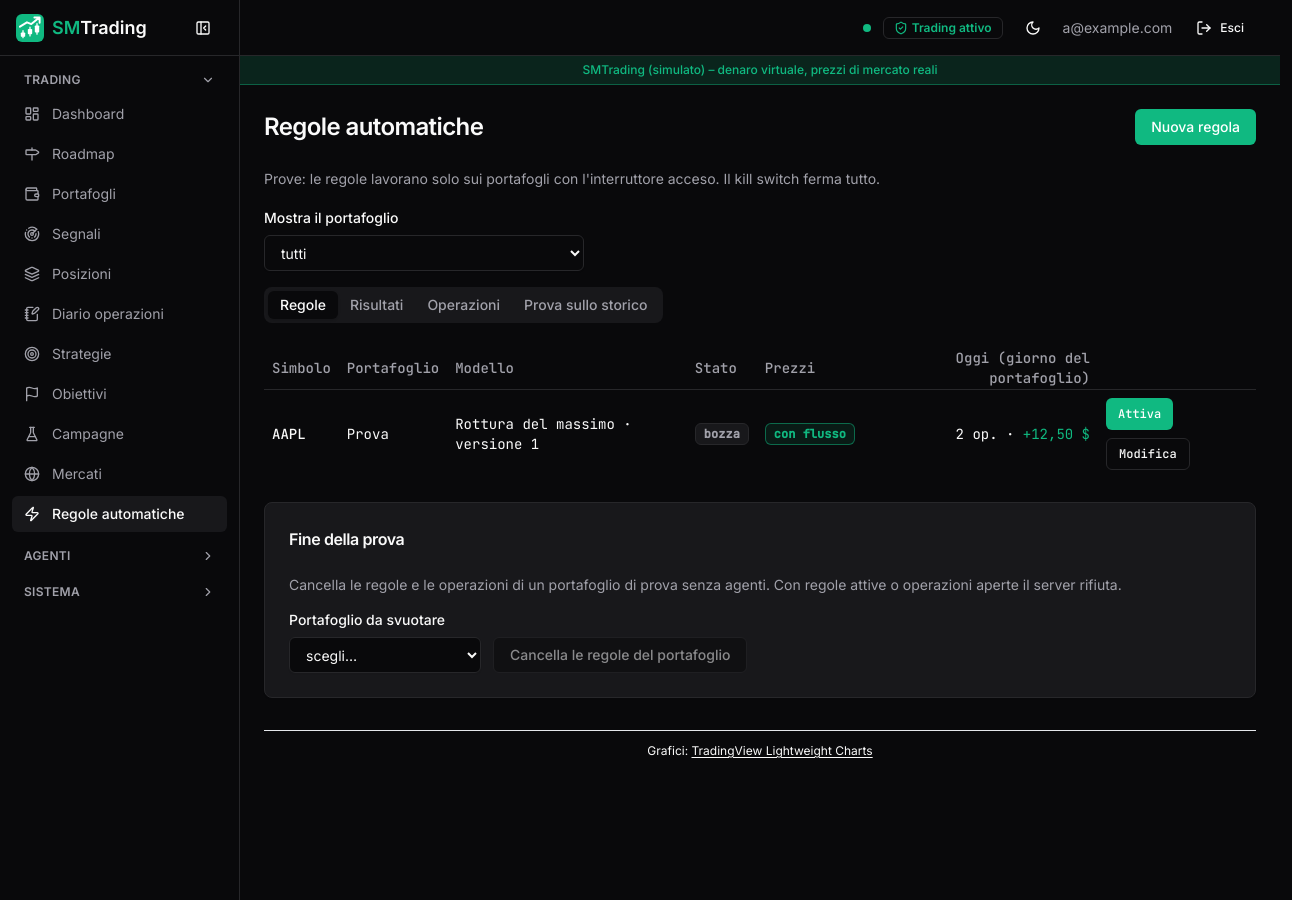
AutoRules › shows the exit reason in plain words and the milliseconds in the trades tab
Step 1. Click the tab "Operazioni" → (464, 305), box [415,291,512,319]
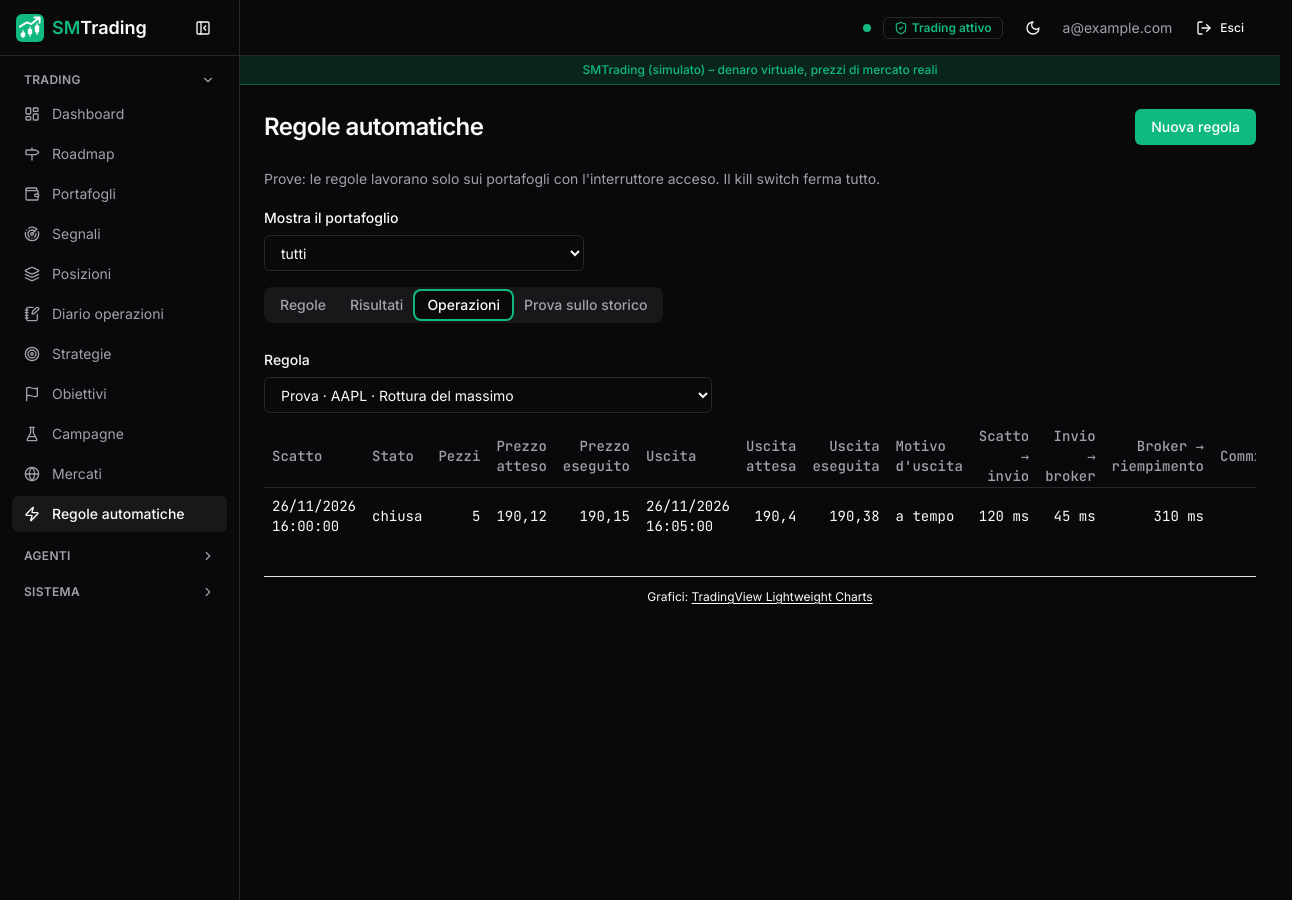
Now the text "a tempo" is shown, box [888,488,971,544]
Now the text "120 ms" is shown, box [979,507,1029,525]
Now the text "190,12" is shown, box [496,507,547,525]
